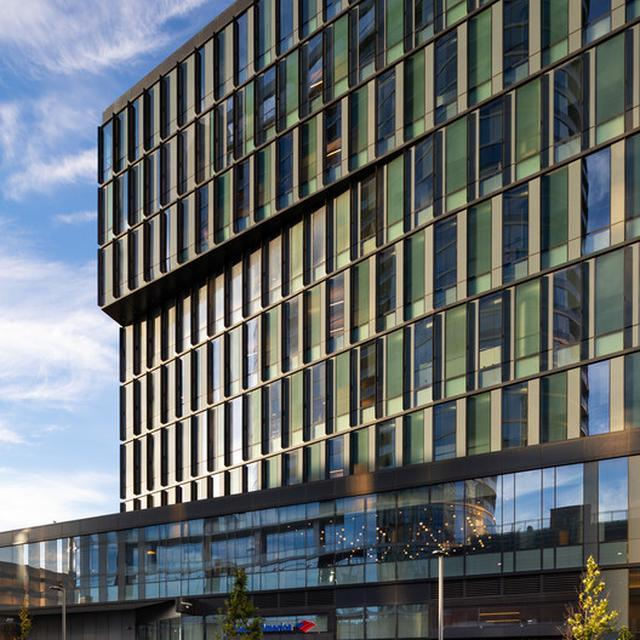building: (101, 1, 640, 640)
